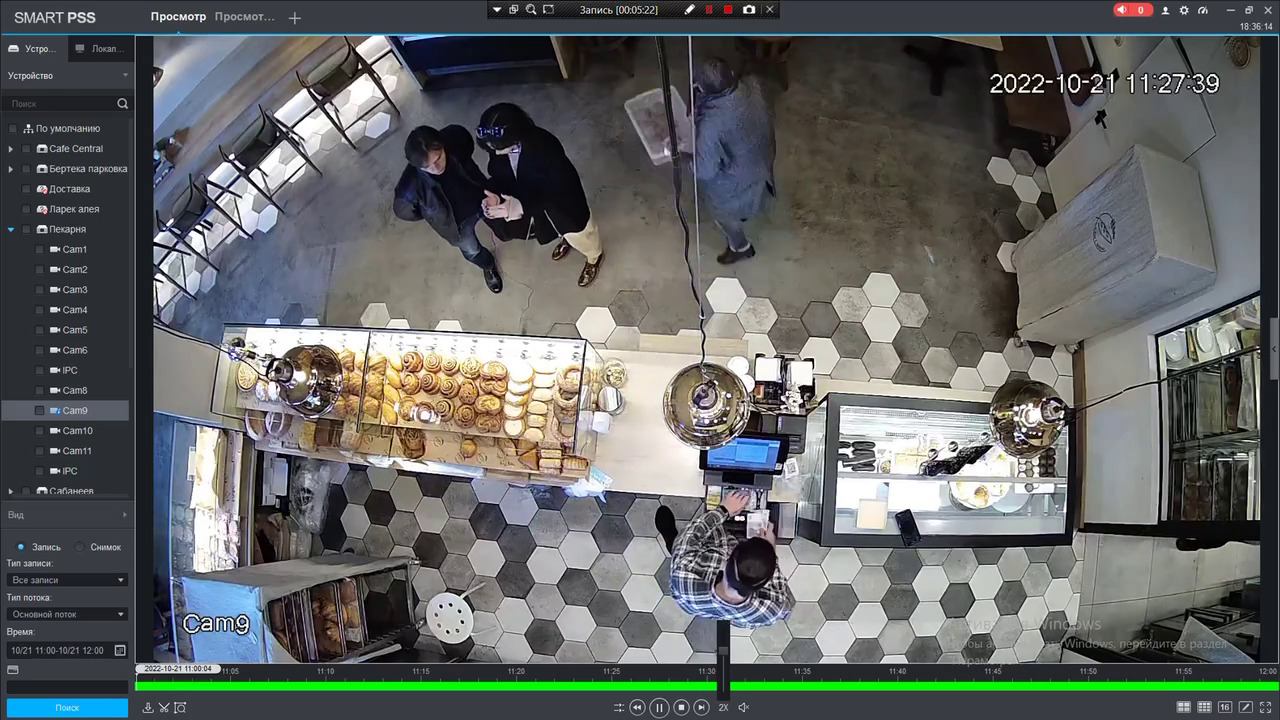openedcash: (702, 429, 782, 537)
pack: (623, 81, 694, 157)
person: (684, 60, 780, 261)
